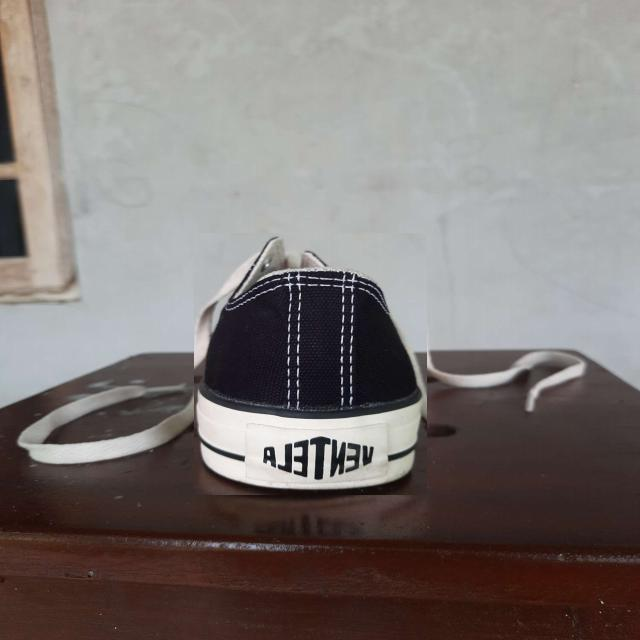shoe: (194, 233, 427, 495)
